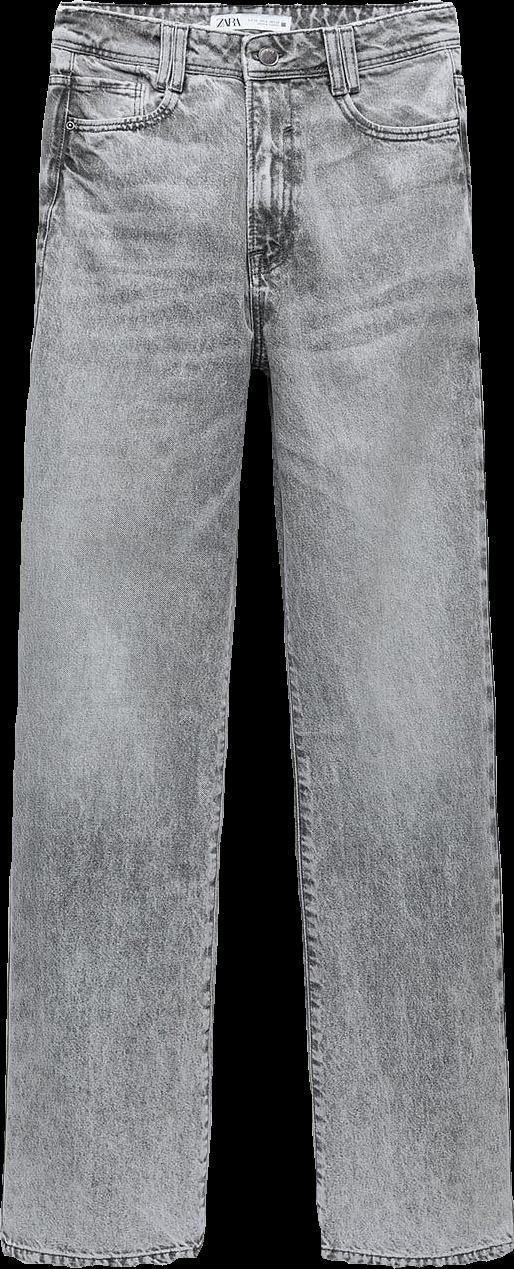Hemline: (0, 1239, 204, 1268), (319, 1241, 513, 1267)
Pantleg: (233, 0, 513, 1263), (1, 0, 252, 1268)
Waistline: (44, 36, 464, 90), (61, 0, 454, 46)
